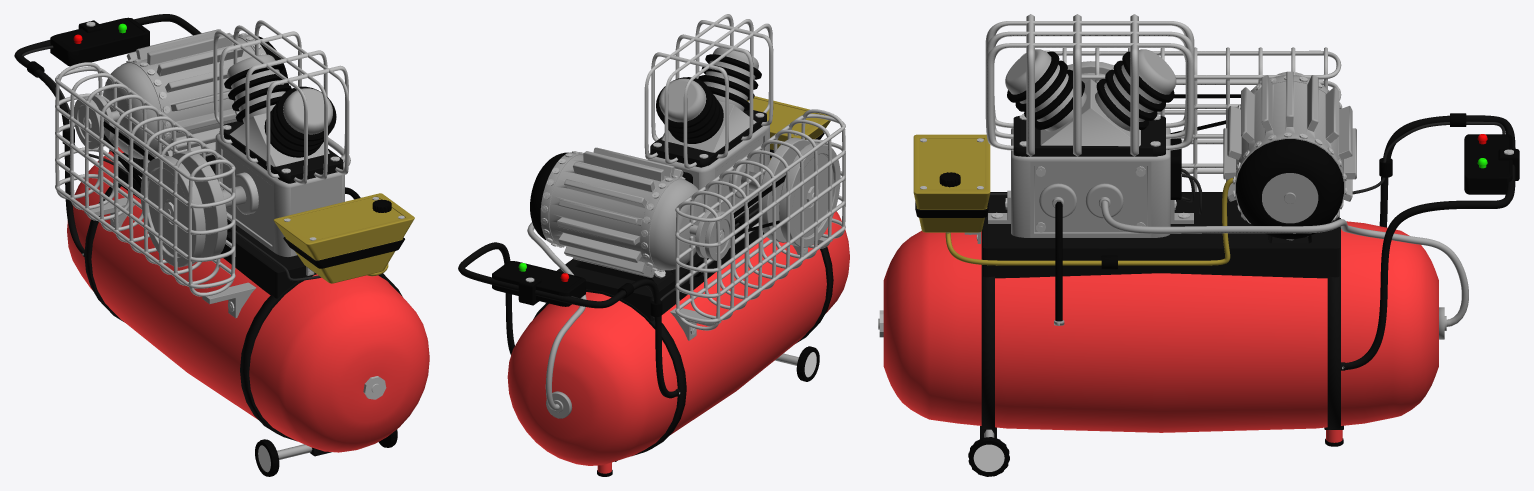
File: compressor.glb
3 views of the same model, side by side, from view 1: azimuth 30°, elevation 25°; view 2: azimuth 150°, elevation 25°; view 3: azimuth 270°, elevation 25° (orthographic). The views are drawn at different scales.
Visible parts, largest first — view 1: Cilindro, gabbia, Cilindro.002, Cubo.011, Cubo.005, Percorso Nurbs.004, Cerchio.008, Cubo, Cubo.014, Cerchio, Percorso Nurbs.001, Cubo.009 (+9 smaller); view 2: Cilindro, Cilindro.002, gabbia, Percorso Nurbs.004, Cerchio.008, Cubo.005, Cubo, Percorso Nurbs.001, Cubo.014, Cerchio, Cubo.011, Cilindro.004 (+14 smaller); view 3: Cilindro, Cubo, Cubo.005, Cilindro.002, Percorso Nurbs.004, Cubo.011, Cilindro.022, gabbia, Cerchio, Percorso Nurbs.001, Percorso Nurbs.002, Cubo.014 (+12 smaller).
Boxes of the visible parts, x1,y1,x2,y2 form: Cilindro: [67, 147, 429, 452]; gabbia: [55, 62, 235, 296]; Cilindro.002: [103, 29, 266, 159]; Cubo.011: [273, 193, 414, 283]; Cubo.005: [215, 113, 344, 256]; Percorso Nurbs.004: [213, 20, 349, 184]; Cerchio.008: [140, 150, 246, 267]; Cubo: [118, 152, 306, 298]; Cubo.014: [50, 17, 149, 66]; Cerchio: [84, 183, 402, 441]; Percorso Nurbs.001: [14, 14, 201, 256]; Cubo.009: [219, 121, 343, 183]; Cilindro: [507, 211, 849, 465]; Cilindro.002: [540, 147, 703, 277]; gabbia: [675, 109, 845, 330]; Percorso Nurbs.004: [644, 14, 773, 169]; Cerchio.008: [741, 137, 840, 247]; Cubo.005: [648, 101, 769, 213]; Cubo: [557, 202, 764, 321]; Percorso Nurbs.001: [458, 242, 680, 398]; Cubo.014: [492, 261, 585, 306]; Cerchio: [533, 244, 833, 455]; Cubo.011: [747, 96, 830, 159]; Cilindro.004: [659, 78, 706, 122]; Cilindro: [883, 221, 1438, 432]; Cubo: [983, 192, 1339, 278]; Cubo.005: [1011, 79, 1170, 237]; Cilindro.002: [1223, 71, 1356, 223]; Percorso Nurbs.004: [985, 14, 1194, 156]; Cubo.011: [913, 134, 990, 232]; Cilindro.022: [1236, 139, 1343, 239]; gabbia: [1021, 47, 1341, 191]; Cerchio: [981, 218, 1340, 429]; Percorso Nurbs.001: [1341, 115, 1515, 370]; Percorso Nurbs.002: [1101, 200, 1468, 326]; Cubo.014: [1464, 134, 1512, 194].
Bounding box in the file's own units: 5.1 × 8.69 × 12.25.
